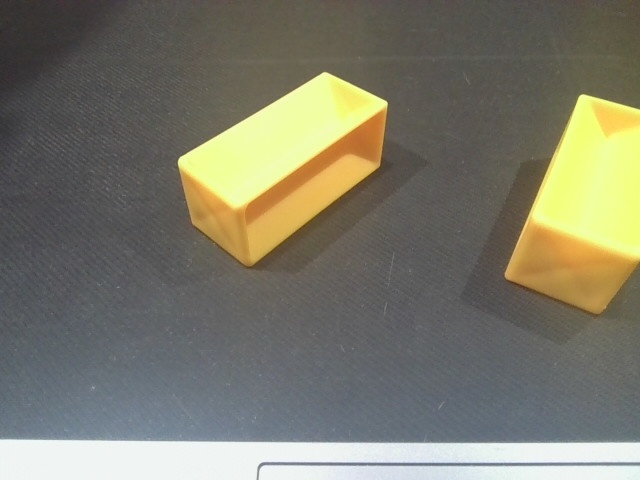YellowSample: (172, 70, 392, 272), (502, 88, 640, 318)
